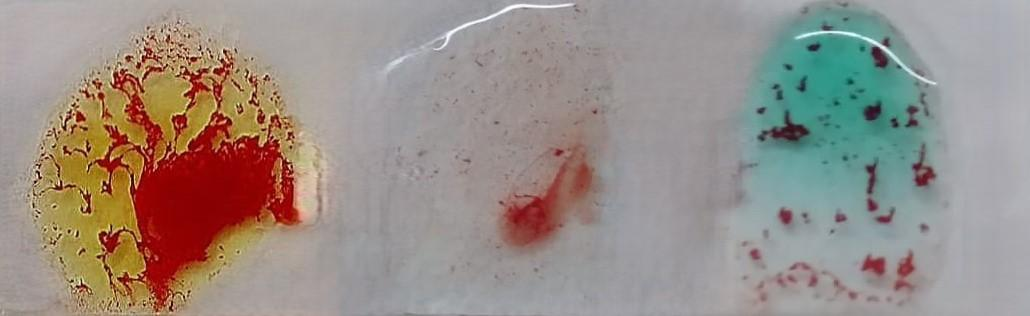A: (739, 8, 961, 316)
B: (46, 25, 329, 316)
D: (384, 15, 613, 311)
